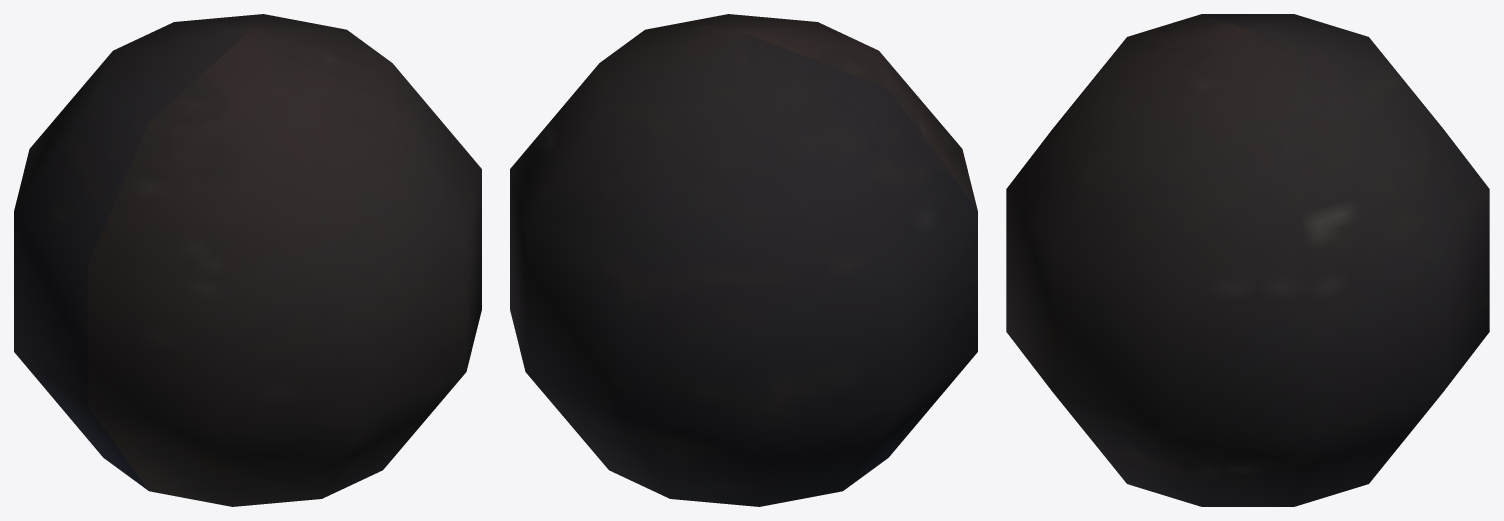
Rendered from CannonBall.fbx.
3 views of the same model, side by side, from view 1: azimuth 30°, elevation 25°; view 2: azimuth 150°, elevation 25°; view 3: azimuth 270°, elevation 25° (orthographic).
Visible parts, largest first — view 1: Sphere; view 2: Sphere; view 3: Sphere.
Part boxes in pixels (box(x1,y1,x2,y2)): Sphere: box(14, 14, 481, 506); Sphere: box(510, 14, 977, 506); Sphere: box(1006, 14, 1489, 506).
Size of the model in its own units: 0.9045 by 1 by 0.9511.
Materials: 1 (1 with a texture image).
